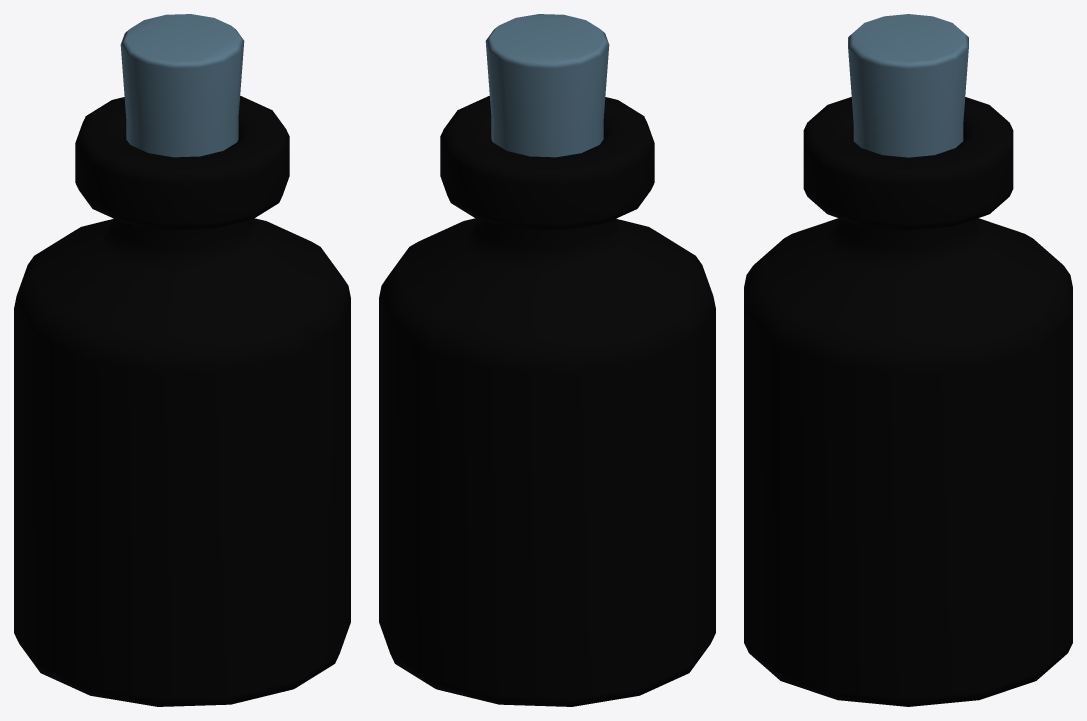
File: BottlePotion_01.fbx
The picture shows the model from 3 angles, left to right: view 1: azimuth 30°, elevation 25°; view 2: azimuth 150°, elevation 25°; view 3: azimuth 270°, elevation 25°; orthographic projection.
Parts seen in each view (by area): view 1: BottlePotion_01, Bouchon; view 2: BottlePotion_01, Bouchon; view 3: BottlePotion_01, Bouchon.
Boxes of the visible parts, x1,y1,x2,y2 form: BottlePotion_01: (14,96,350,706); Bouchon: (120,14,244,157); BottlePotion_01: (379,96,715,706); Bouchon: (485,14,609,157); BottlePotion_01: (744,97,1072,706); Bouchon: (848,14,968,157).
Size of the model in its own units: 0.1308 by 0.2587 by 0.1275.
